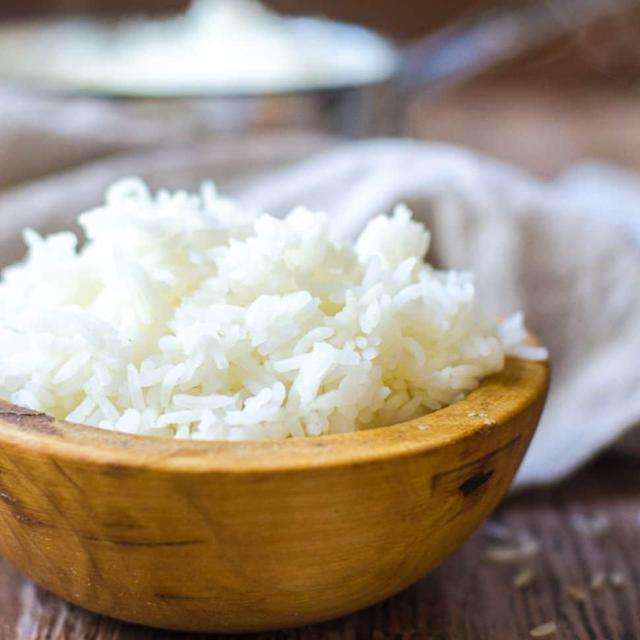rice: (2, 178, 521, 437)
